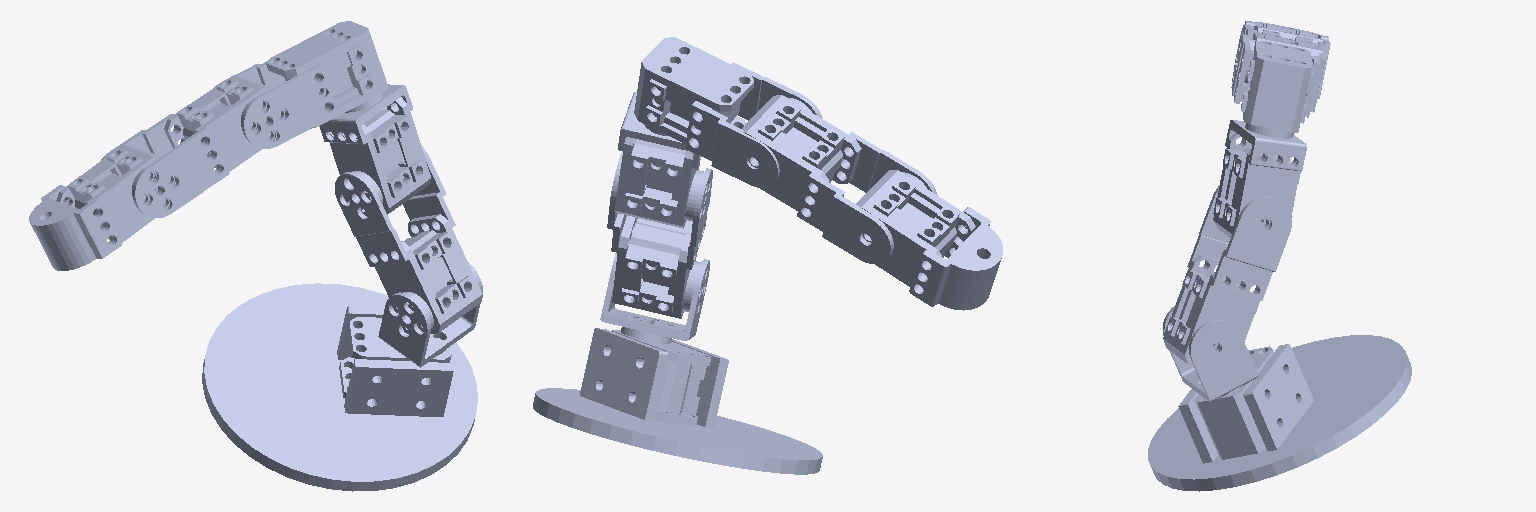
The robot description file, URDF, robot "Assem3":
<?xml version="1.0" encoding="utf-8"?>
<!-- This URDF was automatically created by SolidWorks to URDF Exporter! Originally created by [author] ([email redacted]) 
     Commit Version: 1.6.0-4-g7f85cfe  Build Version: 1.6.7995.38578
     For more information, please see http://wiki.ros.org/sw_urdf_exporter -->
<robot
  name="Assem3">
  <link
    name="base_link">
    <inertial>
      <origin
        xyz="-0.114267216289095 -0.283995565633609 0.418841558829499"
        rpy="0 0 0" />
      <mass
        value="0.0443380674955201" />
      <inertia
        ixx="2.47610542503408E-05"
        ixy="-7.37903869562366E-07"
        ixz="-4.2010108745319E-07"
        iyy="4.55860304537552E-05"
        iyz="8.23627837309425E-06"
        izz="2.82535428698047E-05" />
    </inertial>
    <visual>
      <origin
        xyz="0 0 0"
        rpy="0 0 0" />
      <geometry>
        <mesh
          filename="package://Assem3/meshes/base_link.STL" />
      </geometry>
      <material
        name="">
        <color
          rgba="0.792156862745098 0.819607843137255 0.933333333333333 1" />
      </material>
    </visual>
    <collision>
      <origin
        xyz="0 0 0"
        rpy="0 0 0" />
      <geometry>
        <mesh
          filename="package://Assem3/meshes/base_link.STL" />
      </geometry>
    </collision>
  </link>
  <link
    name="Link_1">
    <inertial>
      <origin
        xyz="6.53673087033235E-05 0.00250200481694549 0.00957549358005047"
        rpy="0 0 0" />
      <mass
        value="0.0134089098796153" />
      <inertia
        ixx="1.88481379335116E-06"
        ixy="1.96761178532424E-09"
        ixz="6.21035254979903E-11"
        iyy="1.08111559493938E-06"
        iyz="-5.74155093962394E-09"
        izz="1.59259136341131E-06" />
    </inertial>
    <visual>
      <origin
        xyz="0 0 0"
        rpy="0 0 0" />
      <geometry>
        <mesh
          filename="package://Assem3/meshes/Link_1.STL" />
      </geometry>
      <material
        name="">
        <color
          rgba="0.792156862745098 0.819607843137255 0.933333333333333 1" />
      </material>
    </visual>
    <collision>
      <origin
        xyz="0 0 0"
        rpy="0 0 0" />
      <geometry>
        <mesh
          filename="package://Assem3/meshes/Link_1.STL" />
      </geometry>
    </collision>
  </link>
  <joint
    name="j1"
    type="fixed">
    <origin
      xyz="-0.0996674633817171 -0.425954017632799 -0.28265638337387"
      rpy="-0.120428320228677 0.363056391223143 -1.99282412633333" />
    <parent
      link="base_link" />
    <child
      link="Link_1" />
    <axis
      xyz="0 0 0" />
  </joint>
  <link
    name="Link_2">
    <inertial>
      <origin
        xyz="-0.000717799918891593 0.0176239675175966 -1.63990428760918E-05"
        rpy="0 0 0" />
      <mass
        value="0.00317309646256028" />
      <inertia
        ixx="3.05421956369053E-07"
        ixy="2.23820929079064E-08"
        ixz="-8.04167096967374E-11"
        iyy="5.85115905441417E-07"
        iyz="5.04531842445188E-10"
        izz="6.7286896243679E-07" />
    </inertial>
    <visual>
      <origin
        xyz="0 0 0"
        rpy="0 0 0" />
      <geometry>
        <mesh
          filename="package://Assem3/meshes/Link_2.STL" />
      </geometry>
      <material
        name="">
        <color
          rgba="0.792156862745098 0.819607843137255 0.933333333333333 1" />
      </material>
    </visual>
    <collision>
      <origin
        xyz="0 0 0"
        rpy="0 0 0" />
      <geometry>
        <mesh
          filename="package://Assem3/meshes/Link_2.STL" />
      </geometry>
    </collision>
  </link>
  <joint
    name="j2"
    type="continuous">
    <origin
      xyz="0 0.00900000000007965 0.0140840111554042"
      rpy="1.5707963267949 0 -0.806549251165967" />
    <parent
      link="Link_1" />
    <child
      link="Link_2" />
    <axis
      xyz="0 1 0" />
  </joint>
  <link
    name="Link_3">
    <inertial>
      <origin
        xyz="6.53673084709538E-05 -0.00649799518314076 -0.000924506420035387"
        rpy="0 0 0" />
      <mass
        value="0.0134089098796153" />
      <inertia
        ixx="1.88481379335115E-06"
        ixy="1.96761178776277E-09"
        ixz="6.21035255163868E-11"
        iyy="1.08111559493939E-06"
        iyz="-5.74155093962368E-09"
        izz="1.59259136341131E-06" />
    </inertial>
    <visual>
      <origin
        xyz="0 0 0"
        rpy="0 0 0" />
      <geometry>
        <mesh
          filename="package://Assem3/meshes/Link_3.STL" />
      </geometry>
      <material
        name="">
        <color
          rgba="0.792156862745098 0.819607843137255 0.933333333333333 1" />
      </material>
    </visual>
    <collision>
      <origin
        xyz="0 0 0"
        rpy="0 0 0" />
      <geometry>
        <mesh
          filename="package://Assem3/meshes/Link_3.STL" />
      </geometry>
    </collision>
  </link>
  <joint
    name="j3"
    type="revolute">
    <origin
      xyz="0 0.0274835289074877 -5.17952220170925E-05"
      rpy="-1.57079632679485 -0.796048731037786 -1.57079632679488" />
    <parent
      link="Link_2" />
    <child
      link="Link_3" />
    <axis
      xyz="0 0 1" />
    <limit lower="-2.25" upper="0.9" effort="10" velocity="3"/>
  </joint>
  <link
    name="Link_4">
    <inertial>
      <origin
        xyz="-1.2521254080966E-05 0.0384758320993447 -0.0194046215866645"
        rpy="0 0 0" />
      <mass
        value="0.00267682688700826" />
      <inertia
        ixx="1.84208978467806E-07"
        ixy="-8.70543377439057E-12"
        ixz="1.01848920288302E-12"
        iyy="9.21692370673706E-08"
        iyz="1.2209144849617E-08"
        izz="2.70821050277172E-07" />
    </inertial>
    <visual>
      <origin
        xyz="0 0 0"
        rpy="0 0 0" />
      <geometry>
        <mesh
          filename="package://Assem3/meshes/Link_4.STL" />
      </geometry>
      <material
        name="">
        <color
          rgba="0.792156862745098 0.819607843137255 0.933333333333333 1" />
      </material>
    </visual>
    <collision>
      <origin
        xyz="0 0 0"
        rpy="0 0 0" />
      <geometry>
        <mesh
          filename="package://Assem3/meshes/Link_4.STL" />
      </geometry>
    </collision>
  </link>
  <joint
    name="j4"
    type="fixed">
    <origin
      xyz="0 0 0.0152185326474379"
      rpy="0 0 -3.14159265358676" />
    <parent
      link="Link_3" />
    <child
      link="Link_4" />
    <axis
      xyz="0 0 1" />
  </joint>
  <link
    name="Link_5">
    <inertial>
      <origin
        xyz="6.5367E-05 -0.006498 -0.018643"
        rpy="0 0 0" />
      <mass
        value="0.013409" />
      <inertia
        ixx="1.8848E-06"
        ixy="1.9676E-09"
        ixz="6.2104E-11"
        iyy="1.0811E-06"
        iyz="-5.7416E-09"
        izz="1.5926E-06" />
    </inertial>
    <visual>
      <origin
        xyz="0 0 0"
        rpy="0 0 0" />
      <geometry>
        <mesh
          filename="package://Assem3/meshes/Link_5.STL" />
      </geometry>
      <material
        name="">
        <color
          rgba="0.79216 0.81961 0.93333 1" />
      </material>
    </visual>
    <collision>
      <origin
        xyz="0 0 0"
        rpy="0 0 0" />
      <geometry>
        <mesh
          filename="package://Assem3/meshes/Link_5.STL" />
      </geometry>
    </collision>
  </link>
  <joint
    name="j5"
    type="revolute">
    <origin
      xyz="0 0.0481699999999921 0"
      rpy="0 0 2.96005973279091" />
    <parent
      link="Link_4" />
    <child
      link="Link_5" />
    <axis
      xyz="0 0 1" />
    <limit lower="-1.34" upper="1.8" effort="10" velocity="3"/>
  </joint>
  <link
    name="Link_6">
    <inertial>
      <origin
        xyz="-1.1213E-14 -0.0092571 -0.01"
        rpy="0 0 0" />
      <mass
        value="0.0017904" />
      <inertia
        ixx="7.6257E-08"
        ixy="-9.0576E-23"
        ixz="1.4724E-22"
        iyy="2.3929E-07"
        iyz="-8.2718E-23"
        izz="1.8339E-07" />
    </inertial>
    <visual>
      <origin
        xyz="0 0 0"
        rpy="0 0 0" />
      <geometry>
        <mesh
          filename="package://Assem3/meshes/Link_6.STL" />
      </geometry>
      <material
        name="">
        <color
          rgba="0.79216 0.81961 0.93333 1" />
      </material>
    </visual>
    <collision>
      <origin
        xyz="0 0 0"
        rpy="0 0 0" />
      <geometry>
        <mesh
          filename="package://Assem3/meshes/Link_6.STL" />
      </geometry>
    </collision>
  </link>
  <joint
    name="j6"
    type="fixed">
    <origin
      xyz="-0.0100000000000007 -0.0191479139782415 -0.01921853264747"
      rpy="-2.7445566167947 -1.57079631189374 2.76668621793986" />
    <parent
      link="Link_5" />
    <child
      link="Link_6" />
    <axis
      xyz="0 0 0" />
  </joint>
  <link
    name="Link_7">
    <inertial>
      <origin
        xyz="6.5367E-05 -0.006498 -0.0091277"
        rpy="0 0 0" />
      <mass
        value="0.013409" />
      <inertia
        ixx="1.8848E-06"
        ixy="1.9676E-09"
        ixz="6.2104E-11"
        iyy="1.0811E-06"
        iyz="-5.7416E-09"
        izz="1.5926E-06" />
    </inertial>
    <visual>
      <origin
        xyz="0 0 0"
        rpy="0 0 0" />
      <geometry>
        <mesh
          filename="package://Assem3/meshes/Link_7.STL" />
      </geometry>
      <material
        name="">
        <color
          rgba="0.79216 0.81961 0.93333 1" />
      </material>
    </visual>
    <collision>
      <origin
        xyz="0 0 0"
        rpy="0 0 0" />
      <geometry>
        <mesh
          filename="package://Assem3/meshes/Link_7.STL" />
      </geometry>
    </collision>
  </link>
  <joint
    name="j7"
    type="continuous">
    <origin
      xyz="0 -0.0171488807013023 -0.00999999999999573"
      rpy="1.57079632679489 1.25060905622965 3.14159265358978" />
    <parent
      link="Link_6" />
    <child
      link="Link_7" />
    <axis
      xyz="0 0 1" />
  </joint>
  <link
    name="Link_8">
    <inertial>
      <origin
        xyz="-1.25212540913466E-05 0.00389083209933203 -0.0156130168697072"
        rpy="0 0 0" />
      <mass
        value="0.00267682688700828" />
      <inertia
        ixx="1.84208978467807E-07"
        ixy="-8.70543376708068E-12"
        ixz="1.01848920199297E-12"
        iyy="9.21692370673711E-08"
        iyz="1.22091448496175E-08"
        izz="2.70821050277173E-07" />
    </inertial>
    <visual>
      <origin
        xyz="0 0 0"
        rpy="0 0 0" />
      <geometry>
        <mesh
          filename="package://Assem3/meshes/Link_8.STL" />
      </geometry>
      <material
        name="">
        <color
          rgba="0.792156862745098 0.819607843137255 0.933333333333333 1" />
      </material>
    </visual>
    <collision>
      <origin
        xyz="0 0 0"
        rpy="0 0 0" />
      <geometry>
        <mesh
          filename="package://Assem3/meshes/Link_8.STL" />
      </geometry>
    </collision>
  </link>
  <joint
    name="j8"
    type="fixed">
    <origin
      xyz="-0.013 -0.0285849999999988 -0.00970320532043092"
      rpy="-1.50305467849397 1.57079630572147 1.6385877907605" />
    <parent
      link="Link_7" />
    <child
      link="Link_8" />
    <axis
      xyz="0 0 0" />
  </joint>
  <link
    name="Link_9">
    <inertial>
      <origin
        xyz="6.5367E-05 -0.006498 -0.015425"
        rpy="0 0 0" />
      <mass
        value="0.013409" />
      <inertia
        ixx="1.8848E-06"
        ixy="1.9676E-09"
        ixz="6.2104E-11"
        iyy="1.0811E-06"
        iyz="-5.7416E-09"
        izz="1.5926E-06" />
    </inertial>
    <visual>
      <origin
        xyz="0 0 0"
        rpy="0 0 0" />
      <geometry>
        <mesh
          filename="package://Assem3/meshes/Link_9.STL" />
      </geometry>
      <material
        name="">
        <color
          rgba="0.79216 0.81961 0.93333 1" />
      </material>
    </visual>
    <collision>
      <origin
        xyz="0 0 0"
        rpy="0 0 0" />
      <geometry>
        <mesh
          filename="package://Assem3/meshes/Link_9.STL" />
      </geometry>
    </collision>
  </link>
  <joint
    name="j9"
    type="revolute">
    <origin
      xyz="0 0.0135849999999879 0"
      rpy="0 0 -3.02465614480491" />
    <parent
      link="Link_8" />
    <child
      link="Link_9" />
    <axis
      xyz="0 0 1" />
    <limit lower="-1.75" upper="1.6" effort="10" velocity="3"/>
  </joint>
  <link
    name="Link_10">
    <inertial>
      <origin
        xyz="7.9818E-06 0.003901 0.011564"
        rpy="0 0 0" />
      <mass
        value="0.0026768" />
      <inertia
        ixx="1.8421E-07"
        ixy="-8.7054E-12"
        ixz="1.0185E-12"
        iyy="9.2169E-08"
        iyz="1.2209E-08"
        izz="2.7082E-07" />
    </inertial>
    <visual>
      <origin
        xyz="0 0 0"
        rpy="0 0 0" />
      <geometry>
        <mesh
          filename="package://Assem3/meshes/Link_10.STL" />
      </geometry>
      <material
        name="">
        <color
          rgba="0.79216 0.81961 0.93333 1" />
      </material>
    </visual>
    <collision>
      <origin
        xyz="0 0 0"
        rpy="0 0 0" />
      <geometry>
        <mesh
          filename="package://Assem3/meshes/Link_10.STL" />
      </geometry>
    </collision>
  </link>
  <joint
    name="j10"
    type="fixed">
    <origin
      xyz="2.0503069383393E-05 -0.0345748135223987 -0.0302499999999999"
      rpy="0 0 -3.14159265358979" />
    <parent
      link="Link_9" />
    <child
      link="Link_10" />
    <axis
      xyz="0 0 0" />
  </joint>
  <link
    name="Link_11">
    <inertial>
      <origin
        xyz="6.5367E-05 -0.006498 0.012325"
        rpy="0 0 0" />
      <mass
        value="0.013409" />
      <inertia
        ixx="1.8848E-06"
        ixy="1.9676E-09"
        ixz="6.2104E-11"
        iyy="1.0811E-06"
        iyz="-5.7416E-09"
        izz="1.5926E-06" />
    </inertial>
    <visual>
      <origin
        xyz="0 0 0"
        rpy="0 0 0" />
      <geometry>
        <mesh
          filename="package://Assem3/meshes/Link_11.STL" />
      </geometry>
      <material
        name="">
        <color
          rgba="0.79216 0.81961 0.93333 1" />
      </material>
    </visual>
    <collision>
      <origin
        xyz="0 0 0"
        rpy="0 0 0" />
      <geometry>
        <mesh
          filename="package://Assem3/meshes/Link_11.STL" />
      </geometry>
    </collision>
  </link>
  <joint
    name="j11"
    type="revolute">
    <origin
      xyz="2.05030694599706E-05 0.0135951864775987 0"
      rpy="0 0 -3.0908723844646" />
    <parent
      link="Link_10" />
    <child
      link="Link_11" />
    <axis
      xyz="0 0 1" />
    <limit lower="-1.70" upper="1.6" effort="10" velocity="3"/>
  </joint>
  <link
    name="Link_12">
    <inertial>
      <origin
        xyz="0.0191760696487054 2.70061750740069E-14 -0.0335233420109425"
        rpy="0 0 0" />
      <mass
        value="0.00607002060549479" />
      <inertia
        ixx="3.43285197810647E-07"
        ixy="3.30872245021211E-23"
        ixz="3.47415857272272E-22"
        iyy="5.25737564834968E-07"
        iyz="1.64608941898053E-22"
        izz="5.90569526462855E-07" />
    </inertial>
    <visual>
      <origin
        xyz="0 0 0"
        rpy="0 0 0" />
      <geometry>
        <mesh
          filename="package://Assem3/meshes/Link_12.STL" />
      </geometry>
      <material
        name="">
        <color
          rgba="0.792156862745098 0.819607843137255 0.933333333333333 1" />
      </material>
    </visual>
    <collision>
      <origin
        xyz="0 0 0"
        rpy="0 0 0" />
      <geometry>
        <mesh
          filename="package://Assem3/meshes/Link_12.STL" />
      </geometry>
    </collision>
  </link>
  <joint
    name="j12"
    type="fixed">
    <origin
      xyz="0 0 -0.0074261"
      rpy="-2.6687 -1.5708 1.0691" />
    <parent
      link="Link_11" />
    <child
      link="Link_12" />
    <axis
      xyz="1 0 0" />
  </joint>
</robot>

--- What the picture shows (computed from the rendered views, not written in the file) ---
The picture shows the robot from 3 angles, left to right: view 1: azimuth 30°, elevation 25°; view 2: azimuth 150°, elevation 25°; view 3: azimuth 270°, elevation 25°; orthographic projection.
Model Assem3 with 13 links and 12 joints (4 revolute, 2 continuous, 6 fixed), rooted at base_link, posed every joint at zero.
Links seen in each view (by area): view 1: base_link, Link_3, Link_5, Link_7, Link_10, Link_9, Link_8, Link_4, Link_11, Link_12, Link_2, Link_1 (+1 smaller); view 2: base_link, Link_7, Link_9, Link_11, Link_3, Link_10, Link_5, Link_8, Link_12, Link_1, Link_2, Link_4 (+1 smaller); view 3: base_link, Link_4, Link_7, Link_3, Link_5, Link_2, Link_1, Link_6, Link_8, Link_9.
Link boxes in pixels (bbox=[...]): base_link: bbox=[202, 283, 477, 491]; Link_3: bbox=[373, 214, 482, 333]; Link_5: bbox=[329, 97, 430, 216]; Link_7: bbox=[266, 21, 387, 128]; Link_10: bbox=[101, 114, 229, 217]; Link_9: bbox=[164, 75, 285, 173]; Link_8: bbox=[214, 61, 338, 148]; Link_4: bbox=[335, 145, 455, 266]; Link_11: bbox=[56, 144, 175, 243]; Link_12: bbox=[29, 185, 121, 270]; Link_2: bbox=[378, 262, 482, 367]; Link_1: bbox=[339, 317, 451, 398]; base_link: bbox=[533, 328, 822, 474]; Link_7: bbox=[634, 37, 753, 143]; Link_9: bbox=[742, 95, 861, 213]; Link_11: bbox=[856, 170, 975, 288]; Link_3: bbox=[612, 215, 701, 318]; Link_10: bbox=[797, 132, 937, 263]; Link_5: bbox=[614, 137, 703, 228]; Link_8: bbox=[685, 62, 822, 187]; Link_12: bbox=[909, 207, 1002, 310]; Link_1: bbox=[612, 327, 711, 425]; Link_2: bbox=[600, 253, 709, 340]; Link_4: bbox=[607, 151, 712, 269]; base_link: bbox=[1148, 335, 1411, 491]; Link_4: bbox=[1187, 185, 1291, 300]; Link_7: bbox=[1240, 41, 1313, 138]; Link_3: bbox=[1163, 255, 1259, 365]; Link_5: bbox=[1213, 132, 1300, 237]; Link_2: bbox=[1163, 306, 1258, 401]; Link_1: bbox=[1195, 346, 1273, 459]; Link_6: bbox=[1225, 120, 1306, 171]; Link_8: bbox=[1231, 34, 1325, 117]; Link_9: bbox=[1244, 29, 1322, 82].
Size in the robot's own frame: 0.1767 by 0.0946 by 0.1641 metres.
13 mesh visuals loaded from 13 distinct referenced files (13 binary STL).